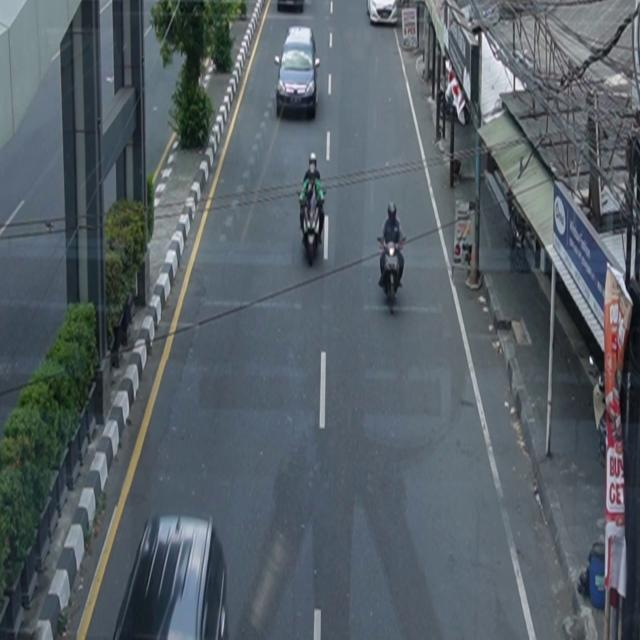car: (275, 26, 321, 119), (367, 1, 398, 26)
